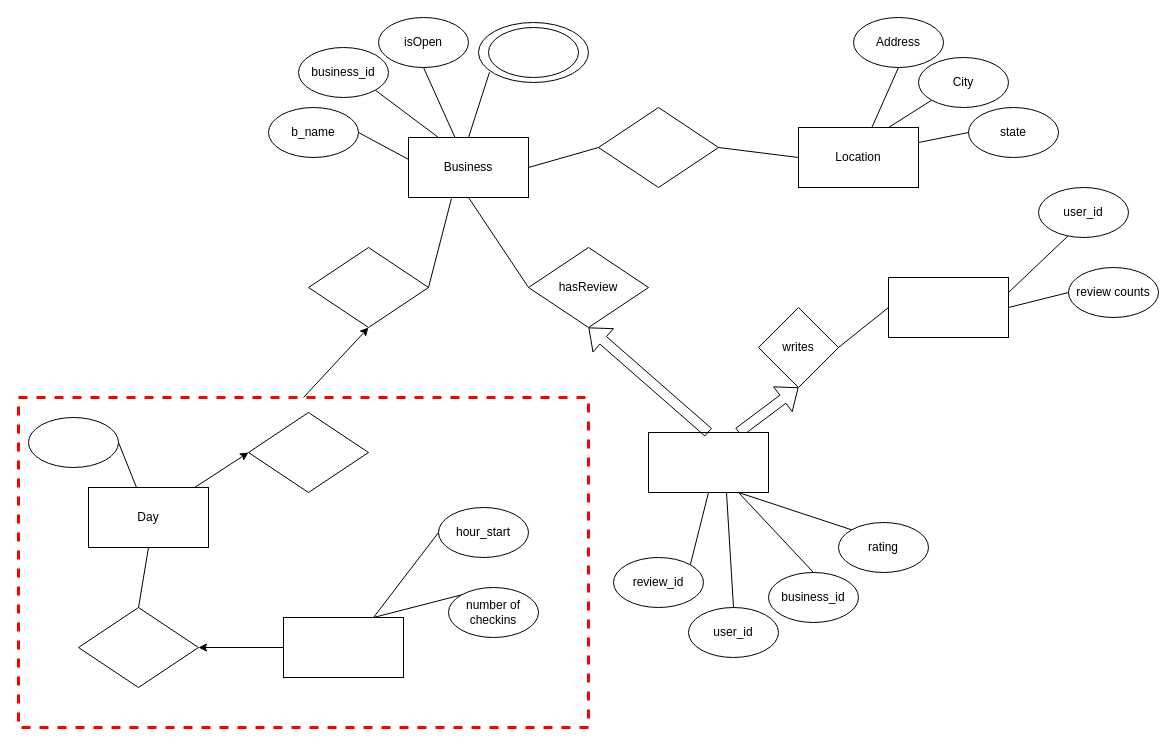
Some shapes in this 1176 by 746 pixel diagram are drawn without their labels. The shapes that lost their labels are listed below. From the top down, each one's centre as x and y in pixels, then its label:
At (533,52): "category".
At (658,147): "isLocatedAt".
At (368,287): "hasCheckIn".
At (948,307): "User".
At (73,442): "day_name".
At (308,452): "hasDays".
At (708,462): "Review".
At (138,647): "hasHours".
At (343,647): "Hour".
